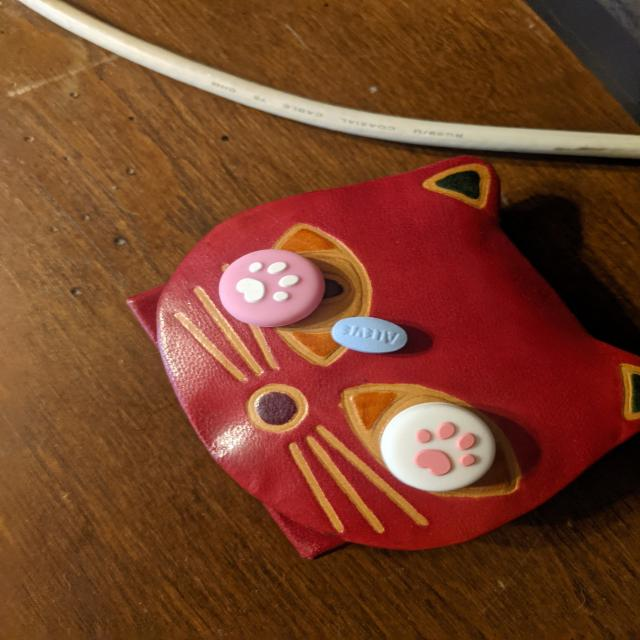non-organic waste: (331, 315, 409, 354)
